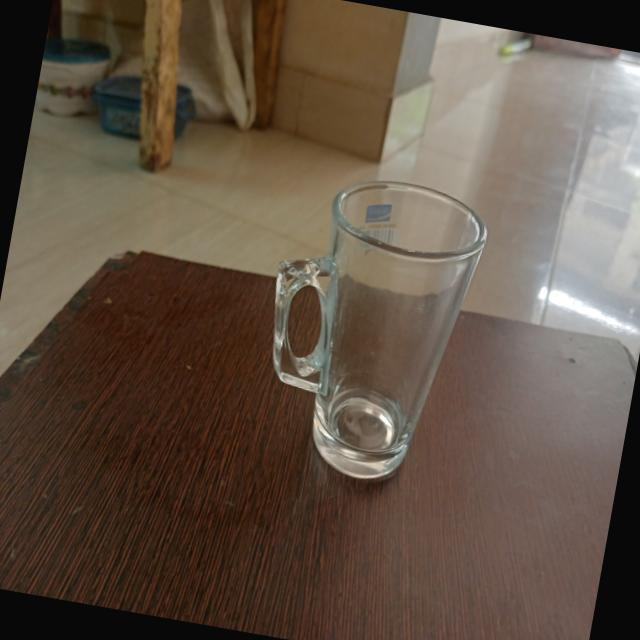glass-VX4N: (240, 154, 491, 498)
